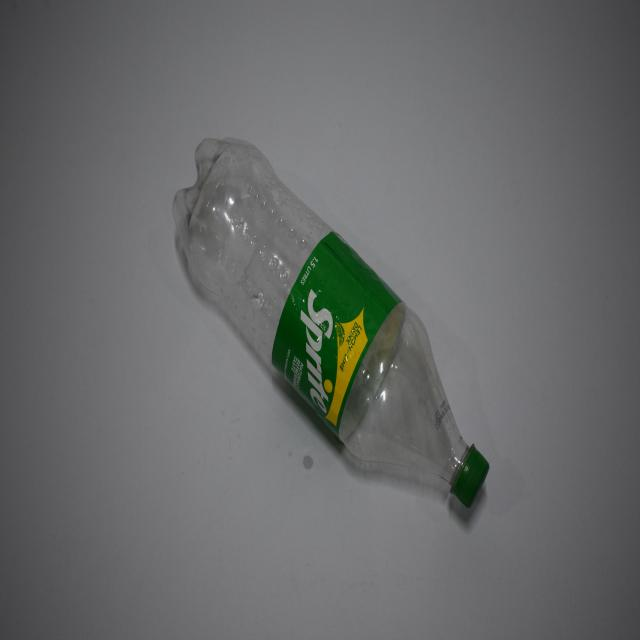bottle: (160, 111, 498, 556)
